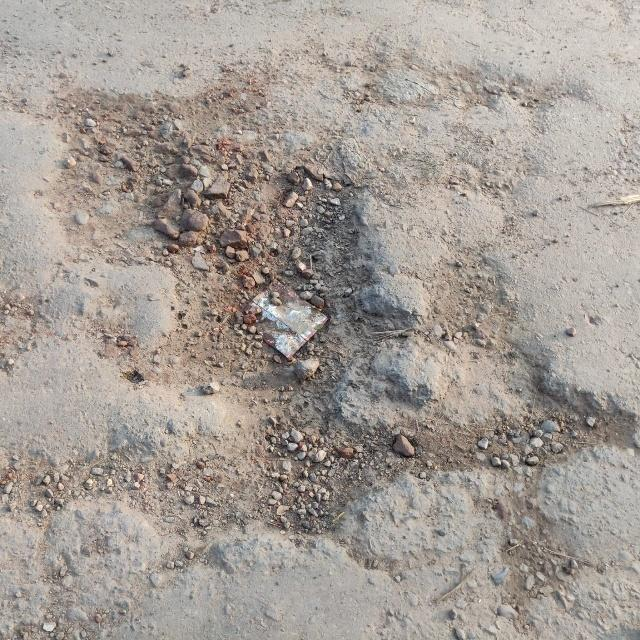Pothole: (116, 170, 382, 390)
Surface Erosion: (11, 46, 612, 640)
